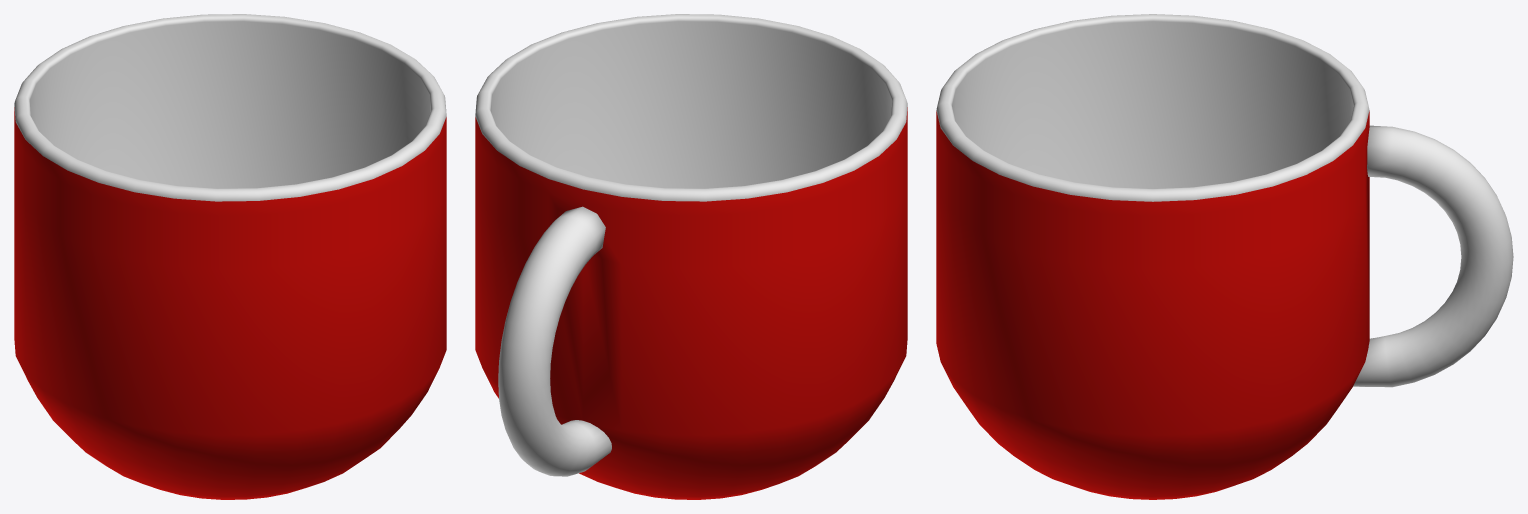
File: Mug.glb
3 renders of one model, left to right at view 1: azimuth 30°, elevation 25°; view 2: azimuth 150°, elevation 25°; view 3: azimuth 270°, elevation 25°, orthographic.
Visible parts, largest first — view 1: 円柱; view 2: 円柱; view 3: 円柱.
Part boxes in pixels (box(x1,y1,x2,y2)): 円柱: box(14, 14, 446, 499); 円柱: box(475, 14, 907, 499); 円柱: box(936, 14, 1513, 499).
Bounding box in the file's own units: 3.48 × 3.1 × 4.64.
